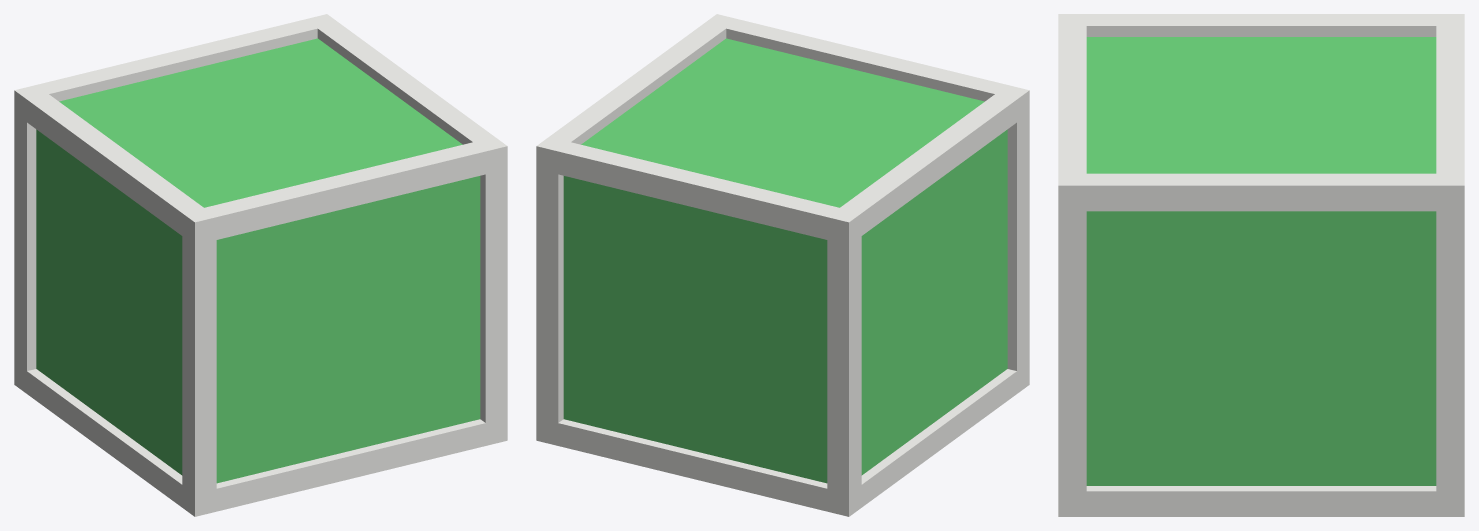
Rendered from ToyCube_Green.fbx.
3 renders of one model, left to right at view 1: azimuth 30°, elevation 25°; view 2: azimuth 150°, elevation 25°; view 3: azimuth 270°, elevation 25°, orthographic. The views are drawn at different scales.
Parts seen in each view (by area): view 1: ToyCube_Green; view 2: ToyCube_Green; view 3: ToyCube_Green.
Part boxes in pixels (box(x1,y1,x2,y2)): ToyCube_Green: box(14, 14, 507, 516); ToyCube_Green: box(536, 14, 1029, 516); ToyCube_Green: box(1058, 14, 1464, 516).
Bounding box in the file's own units: 1 × 0.9 × 1.
